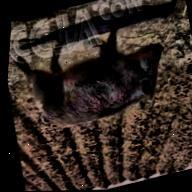boar: (3, 6, 179, 140)
